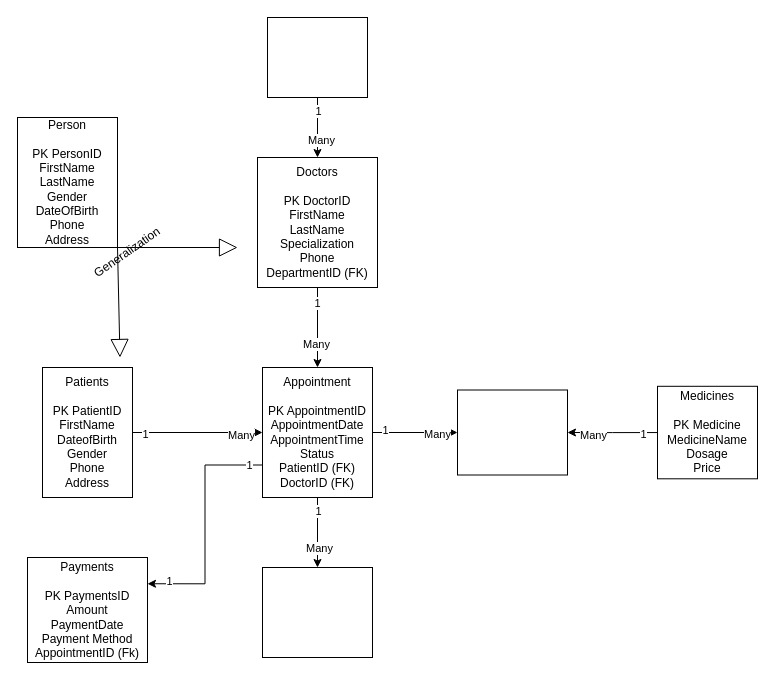
This 775x680 diagram has some shape labels left out. Each missing label, with the centre of its shape:
"Departments PK DepartmentID DepartmentName Location" belongs at point (317, 57).
"Prescriptions PK Prescriptions AppointmentID (FK ) MedicineID (FK) Quantity" belongs at point (512, 432).
"Treatments PK TreatmentID TreatmentName Description AppointmentID (FK)" belongs at point (317, 612).
